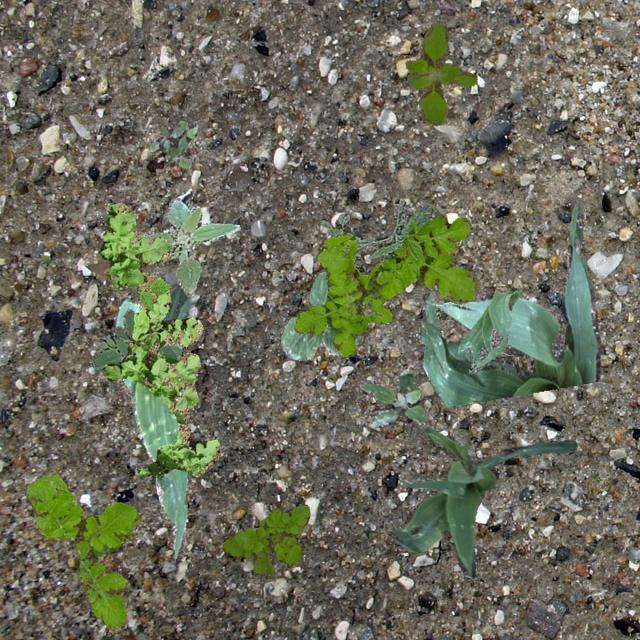crop: (420, 206, 600, 406), (392, 423, 576, 578), (114, 282, 190, 558), (456, 286, 520, 372), (280, 270, 340, 360)
weed: (98, 202, 222, 476), (294, 215, 478, 356), (25, 473, 138, 632), (138, 196, 240, 294), (319, 197, 432, 270), (404, 21, 476, 124), (222, 504, 308, 576), (88, 307, 185, 368), (358, 368, 426, 428), (148, 120, 196, 168)
